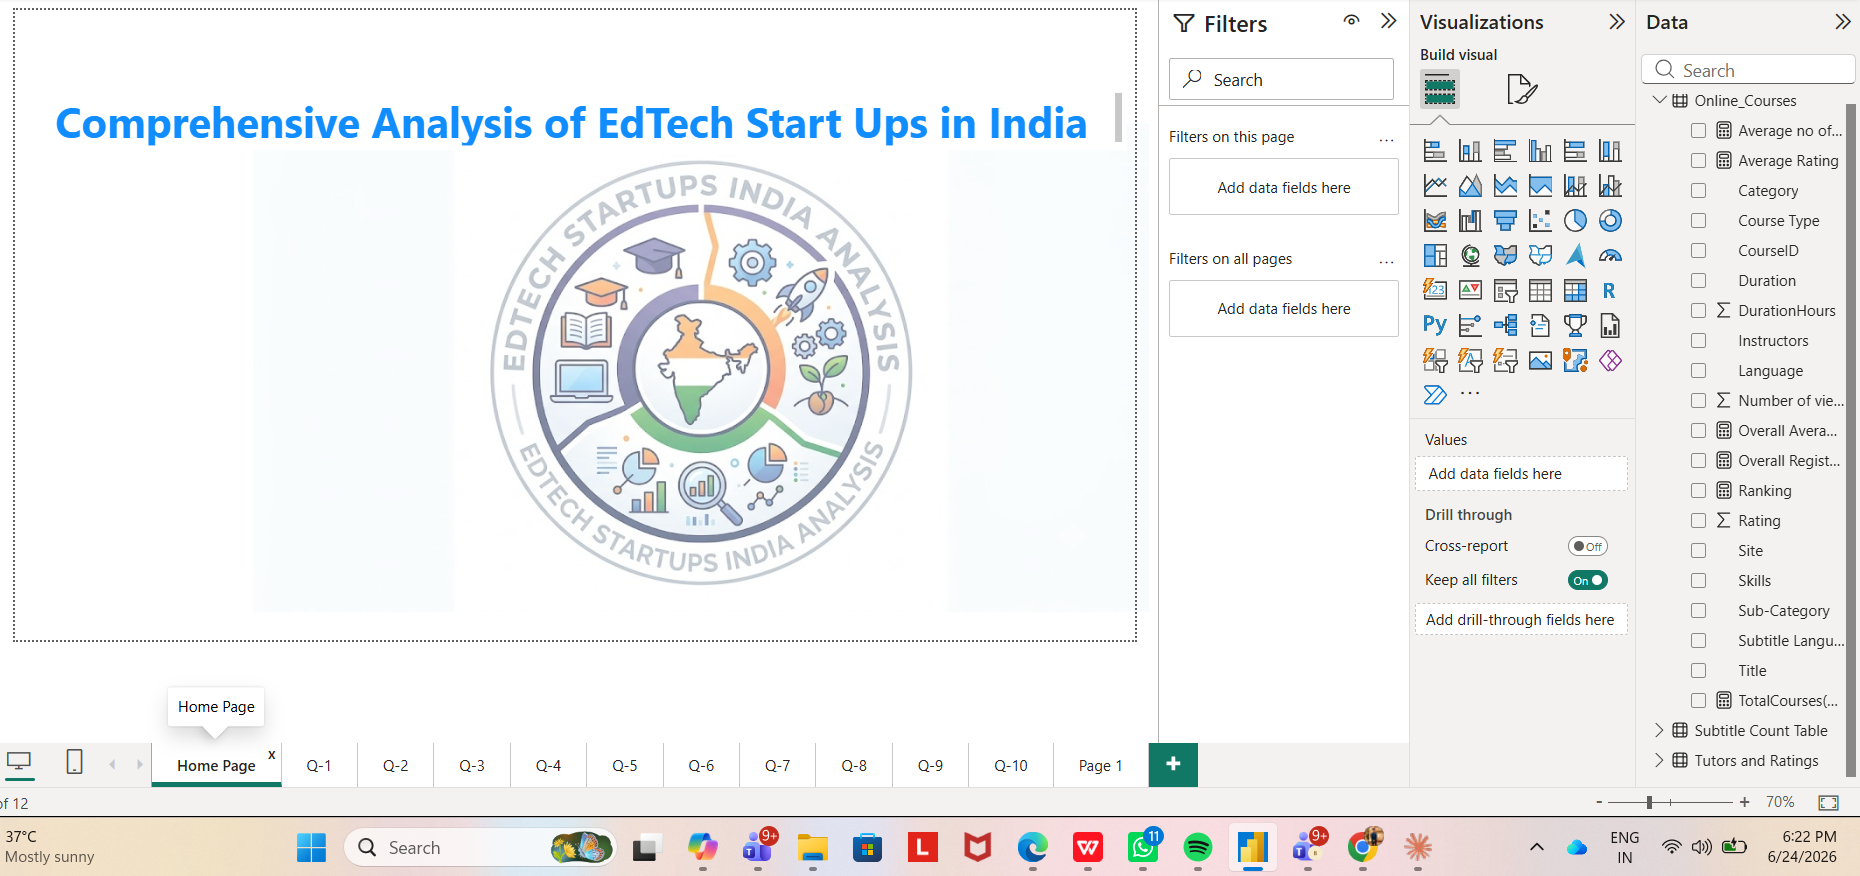

Layout of this report page (visuals, bound fields, positions):
{"tool":"powerbi","page":{"name":"Home Page","canvas":[1280,720],"ordinal":0},"visuals":[{"type":"textbox","box":[10,90,1260,70],"z":0}]}

Visuals, with their boxes on the page's 1280x720 design canvas (x1, y1, x2, y2). These are canvas units, not pixel positions in the 1860x876 screenshot, which may show the page scaled, cropped or inside an application window:
textbox: left=10, top=90, right=1270, bottom=160
